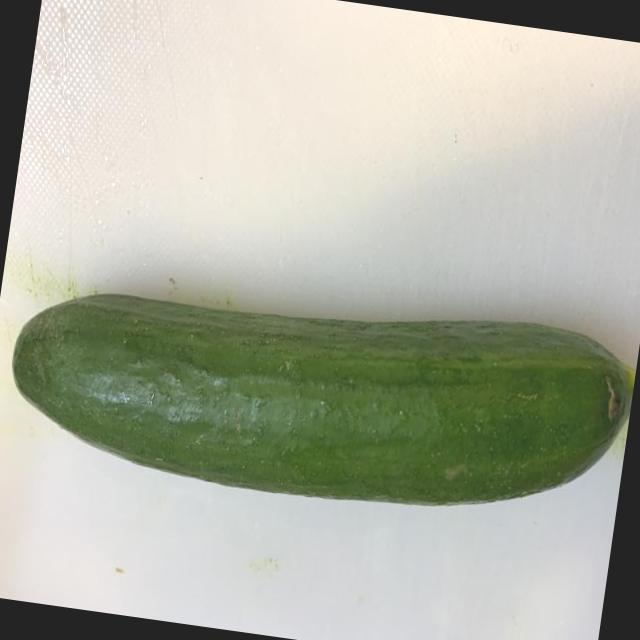Cucumber: (2, 254, 638, 540)
